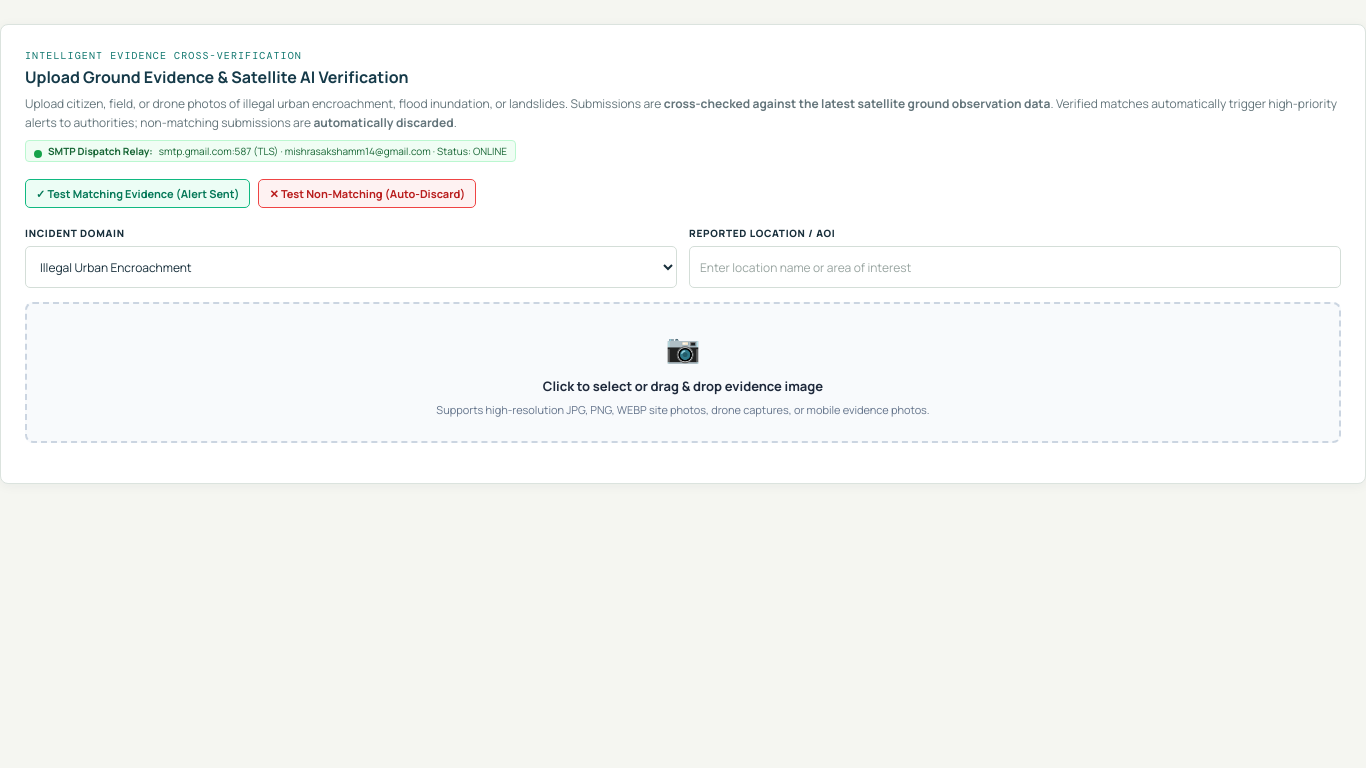
EvidenceUploadVerification Component › handles the non-matching evidence workflow with automatic discard and zero alerts
Note: Click sample non-matching button
Click the button "✕ Test Non-Matching (Auto-Discard)" at (367, 194), box [258, 179, 476, 208]
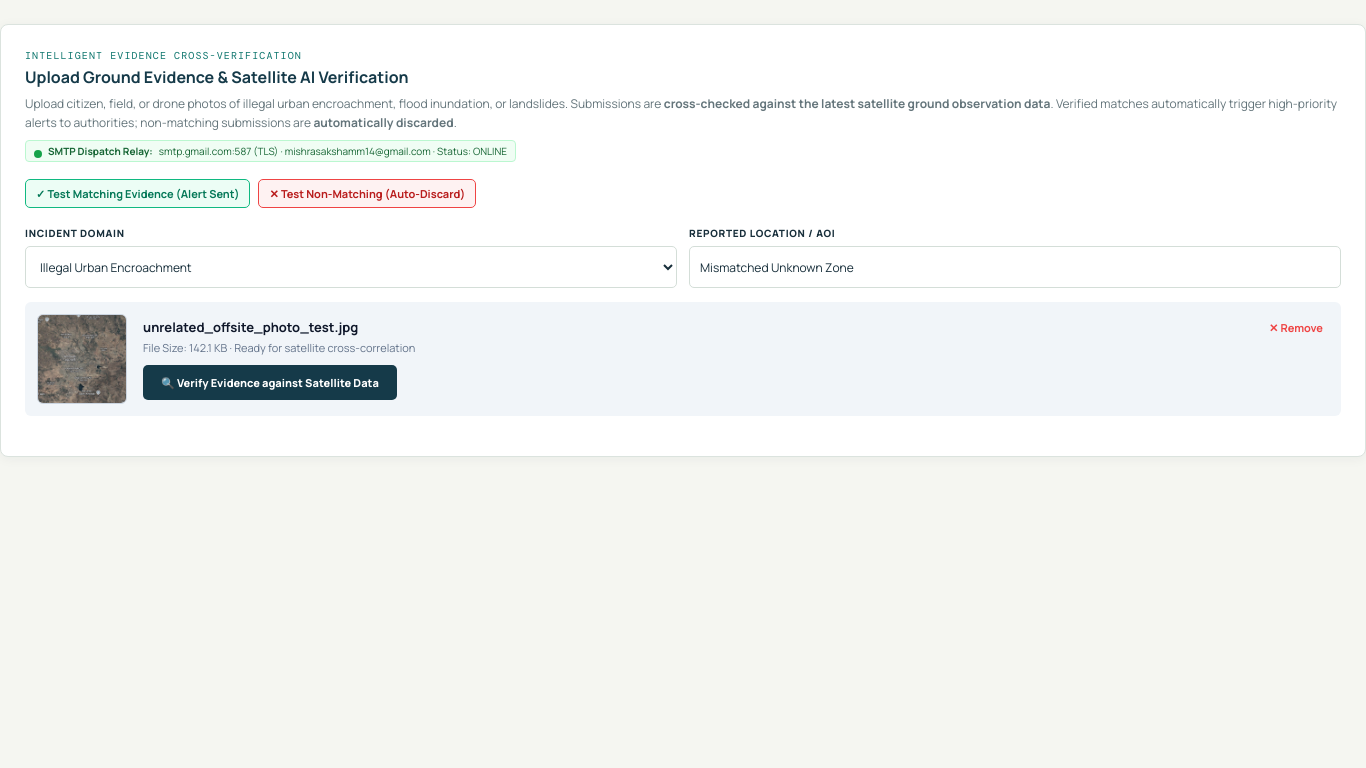
Expected: the text "unrelated_offsite_photo_test.jpg" is shown, [143, 318, 358, 336]
Note: Click verify action button
Click the button "🔍 Verify Evidence against Satellite Data" at (270, 383), box [143, 365, 397, 400]
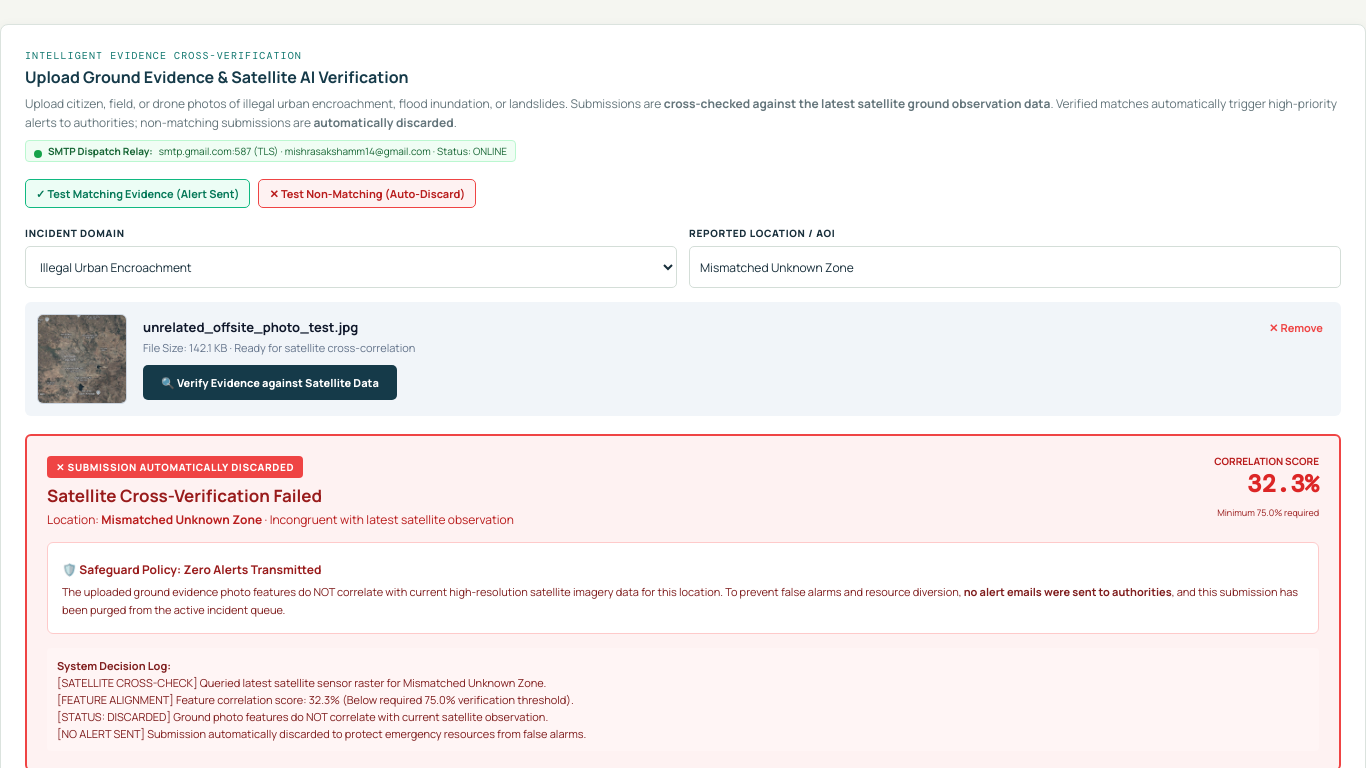
Expected: the text "✕ SUBMISSION AUTOMATICALLY DISCARDED" is shown, [47, 456, 303, 478]
Expected: the heading "Satellite Cross-Verification Failed" is shown, [47, 484, 322, 507]
Expected: the text "🛡️ Safeguard Policy: Zero Alerts Transmitted" is shown, [62, 561, 322, 578]
